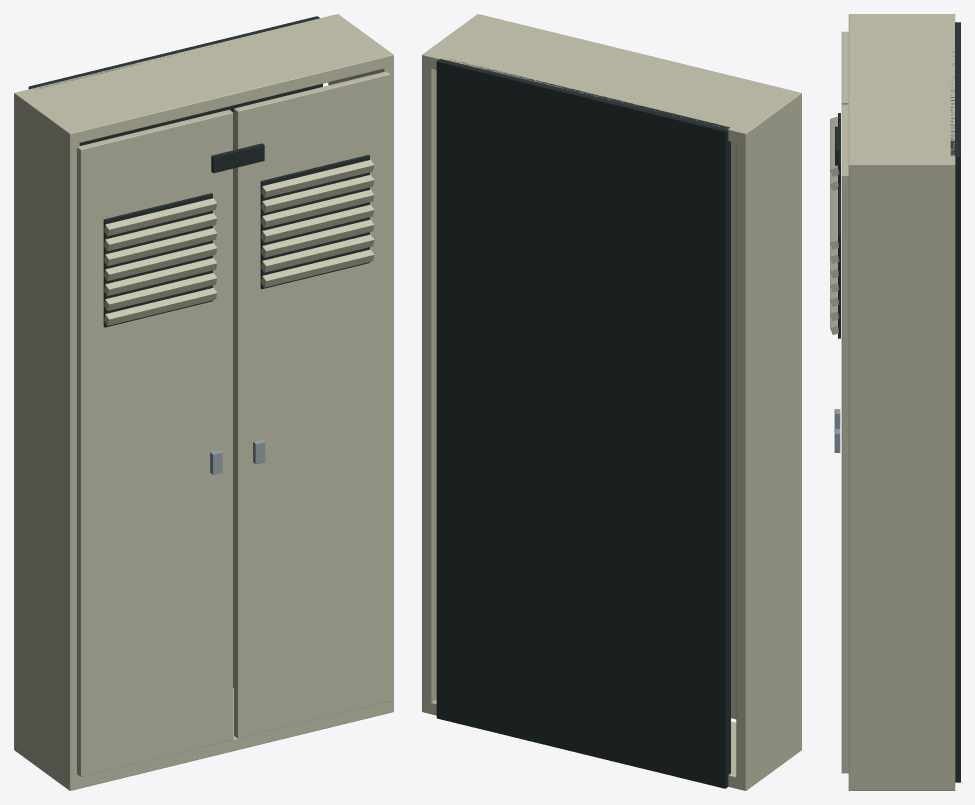
Rendered from edited.glb.
The picture shows the model from 3 angles, left to right: view 1: azimuth 30°, elevation 25°; view 2: azimuth 150°, elevation 25°; view 3: azimuth 270°, elevation 25°; orthographic projection. The views are drawn at different scales.
Visible parts, largest first — view 1: DOOR_Panel, DOOR_Panel.001, CABINET_Side.001, CABINET_Cap, CABINET_Cap.001, CABINET_Side, VENT_Recess, VENT_Recess.001, CABINET_Back, VENT_Slat.009, VENT_Slat.006, VENT_Slat.008 (+12 smaller); view 2: CABINET_Back, CABINET_Side.001, CABINET_Cap, CABINET_Side, DOOR_Panel; view 3: CABINET_Side, CABINET_Cap, DOOR_Panel.001, CABINET_Back, DOOR_Panel, VENT_Slat.013, VENT_Recess.001, VENT_Slat.006, CABINET_Side.001.
Boxes of the visible parts, x1=… form: DOOR_Panel: x1=77, y1=109, x2=233, y2=776; DOOR_Panel.001: x1=234, y1=71, x2=390, y2=738; CABINET_Side.001: x1=14, y1=91, x2=79, y2=790; CABINET_Cap: x1=20, y1=15, x2=388, y2=142; CABINET_Cap.001: x1=75, y1=687, x2=388, y2=789; CABINET_Side: x1=328, y1=14, x2=393, y2=713; VENT_Recess: x1=103, y1=193, x2=212, y2=327; VENT_Recess.001: x1=260, y1=155, x2=369, y2=289; CABINET_Back: x1=28, y1=16, x2=322, y2=687; VENT_Slat.009: x1=261, y1=219, x2=374, y2=257; VENT_Slat.006: x1=104, y1=198, x2=217, y2=236; VENT_Slat.008: x1=261, y1=234, x2=374, y2=272; CABINET_Back: x1=436, y1=59, x2=730, y2=788; CABINET_Side.001: x1=736, y1=91, x2=801, y2=790; CABINET_Cap: x1=427, y1=15, x2=795, y2=142; CABINET_Side: x1=422, y1=14, x2=482, y2=713; DOOR_Panel: x1=731, y1=142, x2=736, y2=719; CABINET_Side: x1=848, y1=160, x2=955, y2=790; CABINET_Cap: x1=848, y1=16, x2=955, y2=161; DOOR_Panel.001: x1=841, y1=104, x2=848, y2=773; CABINET_Back: x1=950, y1=22, x2=960, y2=782; DOOR_Panel: x1=841, y1=31, x2=848, y2=104; VENT_Slat.013: x1=830, y1=190, x2=838, y2=249; VENT_Recess.001: x1=838, y1=186, x2=840, y2=338; VENT_Slat.006: x1=830, y1=116, x2=839, y2=176; CABINET_Side.001: x1=848, y1=14, x2=955, y2=16.
Size of the model in its own units: 1.14 by 2.2 by 0.4167.
